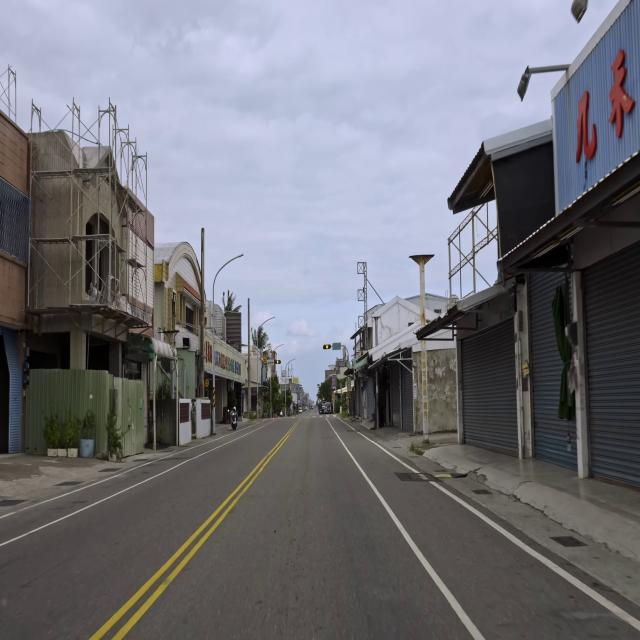yellow light: (323, 344, 331, 349), (274, 360, 281, 364)
